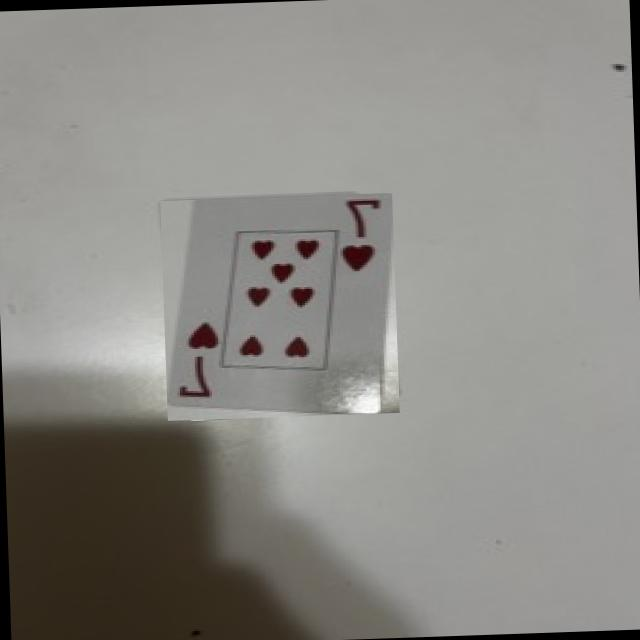7 of hearts: (168, 192, 393, 414)
